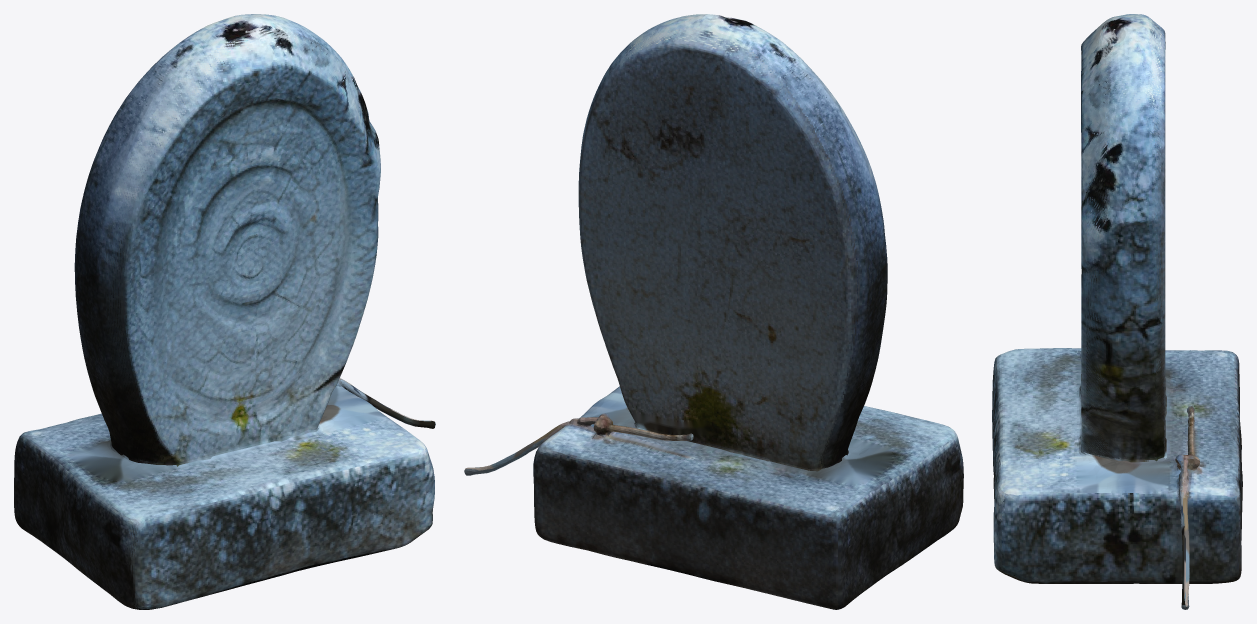
The model's file is traveler_env_coast_toshi_kijo_gravestone_00001_.glb.
3 views of the same model, side by side, from view 1: azimuth 30°, elevation 25°; view 2: azimuth 150°, elevation 25°; view 3: azimuth 270°, elevation 25° (orthographic). The views are drawn at different scales.
Parts seen in each view (by area): view 1: temp_mesh.ply; view 2: temp_mesh.ply; view 3: temp_mesh.ply.
Part boxes in pixels (x1,y1,x2,y2): temp_mesh.ply: [14, 14, 435, 609]; temp_mesh.ply: [464, 14, 963, 609]; temp_mesh.ply: [992, 14, 1242, 609].
Bounding box in the file's own units: 1.66 × 1.97 × 0.8987.
1 material, 1 textured.
